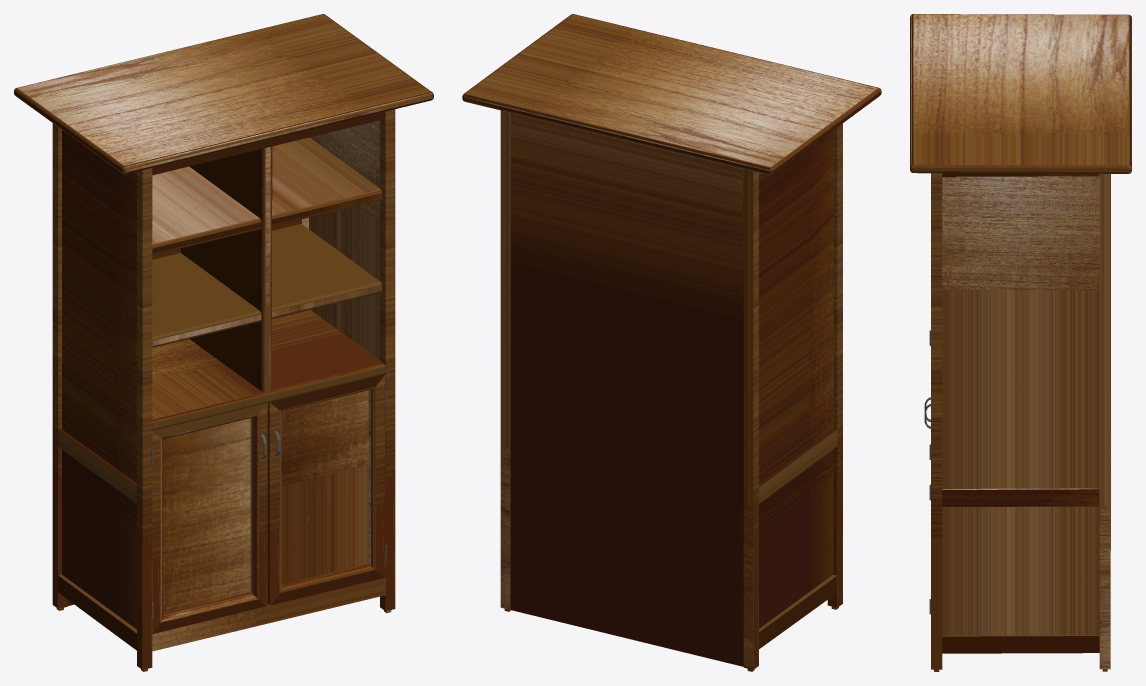
The model's file is Cab_LODGroup.fbx.
3 renders of one model, left to right at view 1: azimuth 30°, elevation 25°; view 2: azimuth 150°, elevation 25°; view 3: azimuth 270°, elevation 25°, orthographic.
Visible parts, largest first — view 1: cab_LOD0; view 2: cab_LOD0; view 3: cab_LOD0.
Boxes of the visible parts, x1,y1,x2,y2 form: cab_LOD0: (14,14,433,671); cab_LOD0: (462,14,881,671); cab_LOD0: (910,14,1131,671).
Size of what is drawn, in the model's own units: 190 by 304 by 117.
